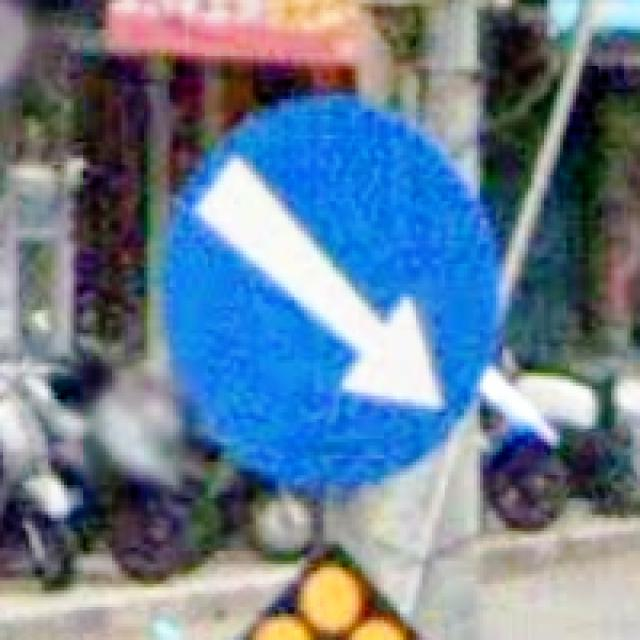thisway: (154, 86, 506, 501)
